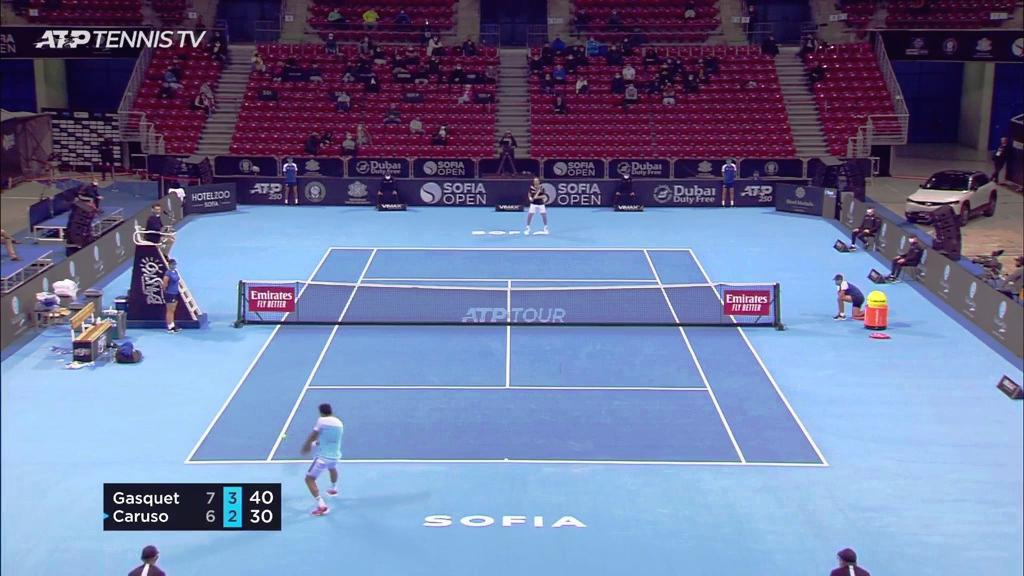tennis-court: (183, 248, 830, 466)
